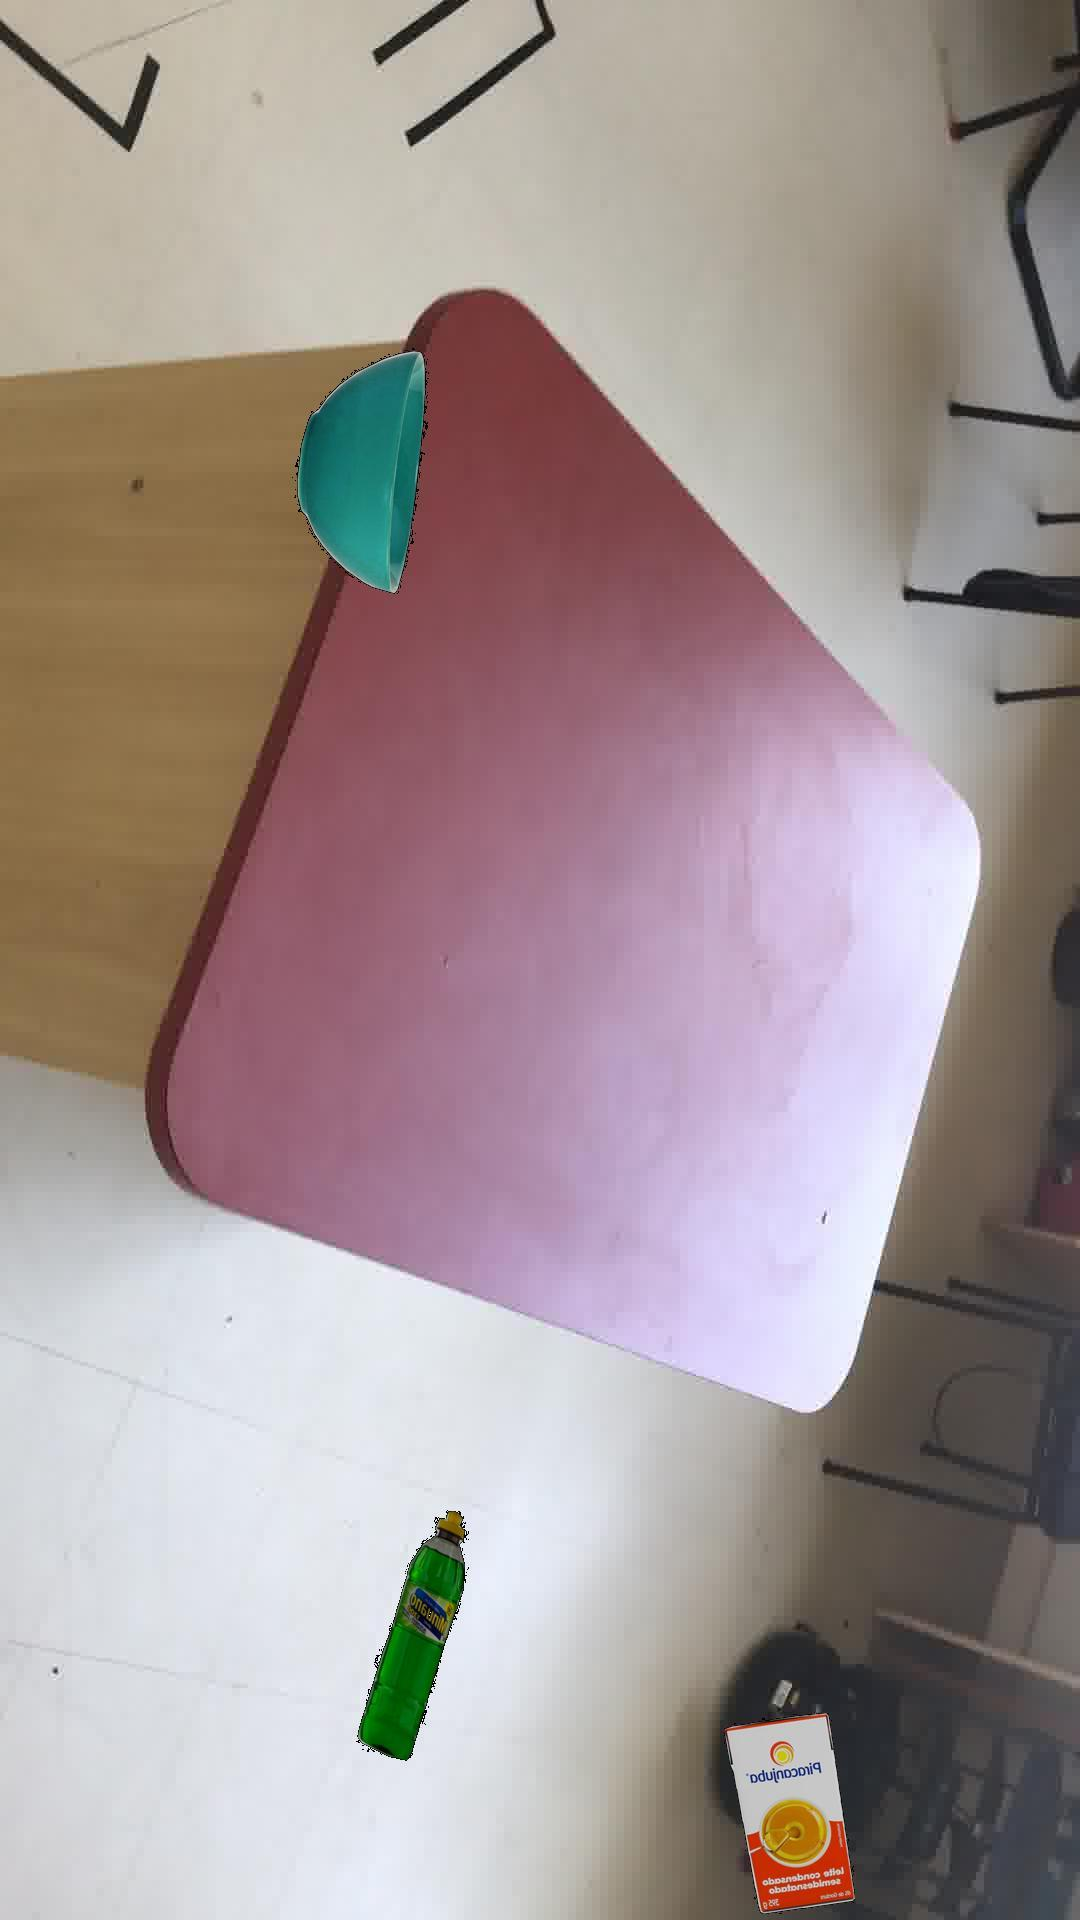bowl: (294, 349, 426, 592)
cleaner: (355, 1510, 467, 1759)
